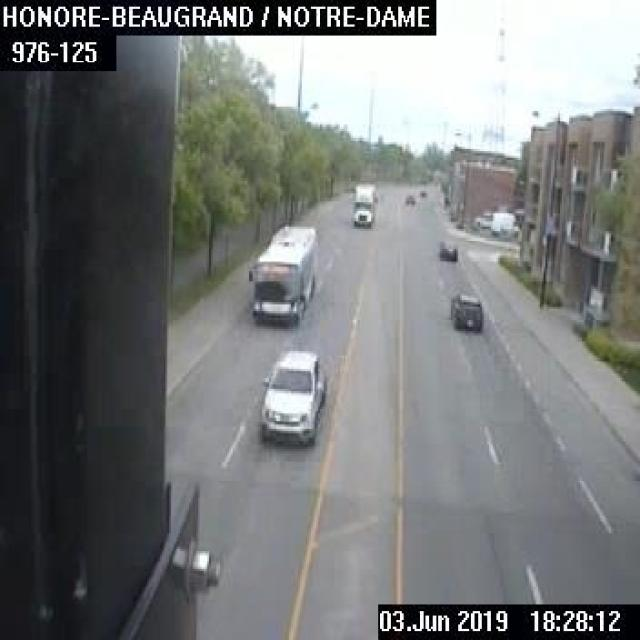bus: (246, 224, 317, 324)
vehicle: (256, 348, 326, 444), (448, 291, 481, 329), (350, 182, 377, 226), (437, 239, 456, 260), (472, 210, 494, 227), (404, 192, 414, 205), (417, 188, 428, 196)
